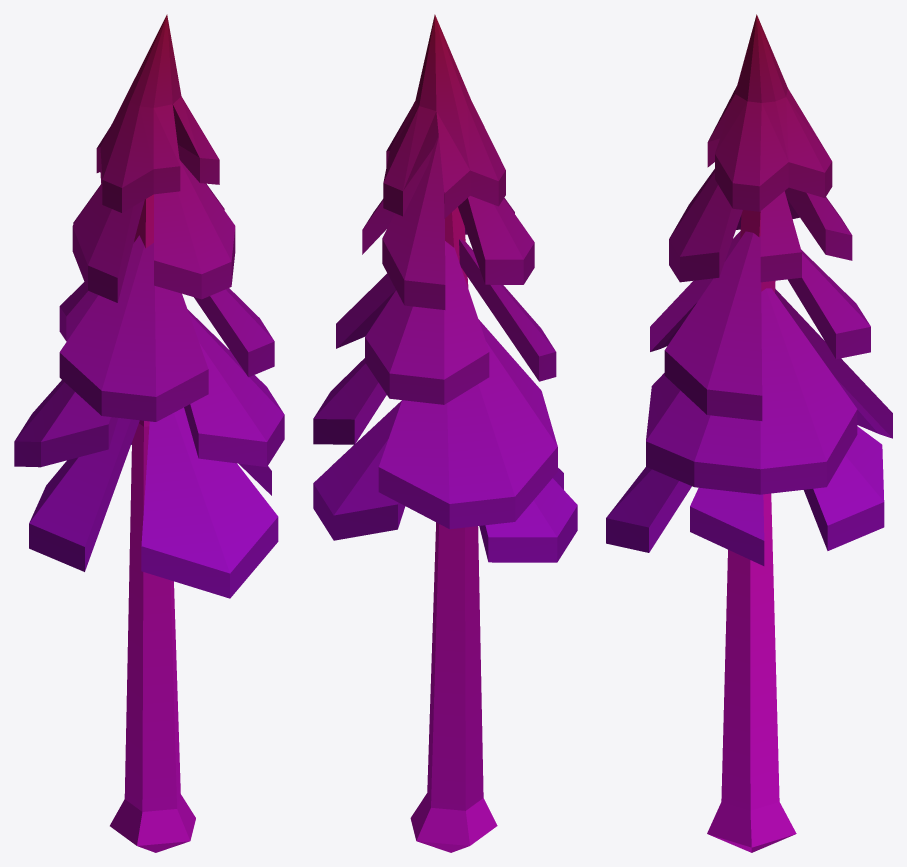
File: SM_Tree_PolyPine_Sparse_03.gltf
The picture shows the model from 3 angles, left to right: view 1: azimuth 30°, elevation 25°; view 2: azimuth 150°, elevation 25°; view 3: azimuth 270°, elevation 25°; orthographic projection.
Parts seen in each view (by area): view 1: SM_Tree_PolyPine_Sparse_03; view 2: SM_Tree_PolyPine_Sparse_03; view 3: SM_Tree_PolyPine_Sparse_03.
Part boxes in pixels (left/top/right/bottom): SM_Tree_PolyPine_Sparse_03: left=14, top=14, right=284, bottom=852; SM_Tree_PolyPine_Sparse_03: left=313, top=14, right=577, bottom=852; SM_Tree_PolyPine_Sparse_03: left=606, top=14, right=892, bottom=852.
Size of the model in its own units: 1.19 by 4.09 by 1.26.
